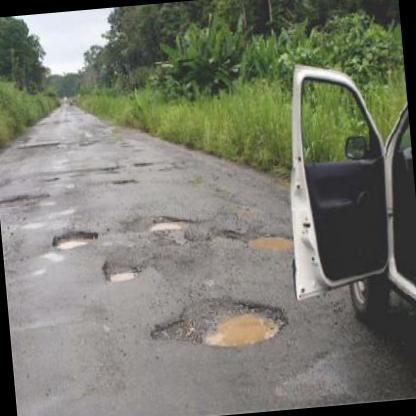pothole: (146, 287, 292, 355), (241, 224, 296, 254), (48, 226, 99, 251), (100, 258, 140, 286), (148, 212, 190, 235), (0, 189, 48, 209), (110, 174, 139, 187)
